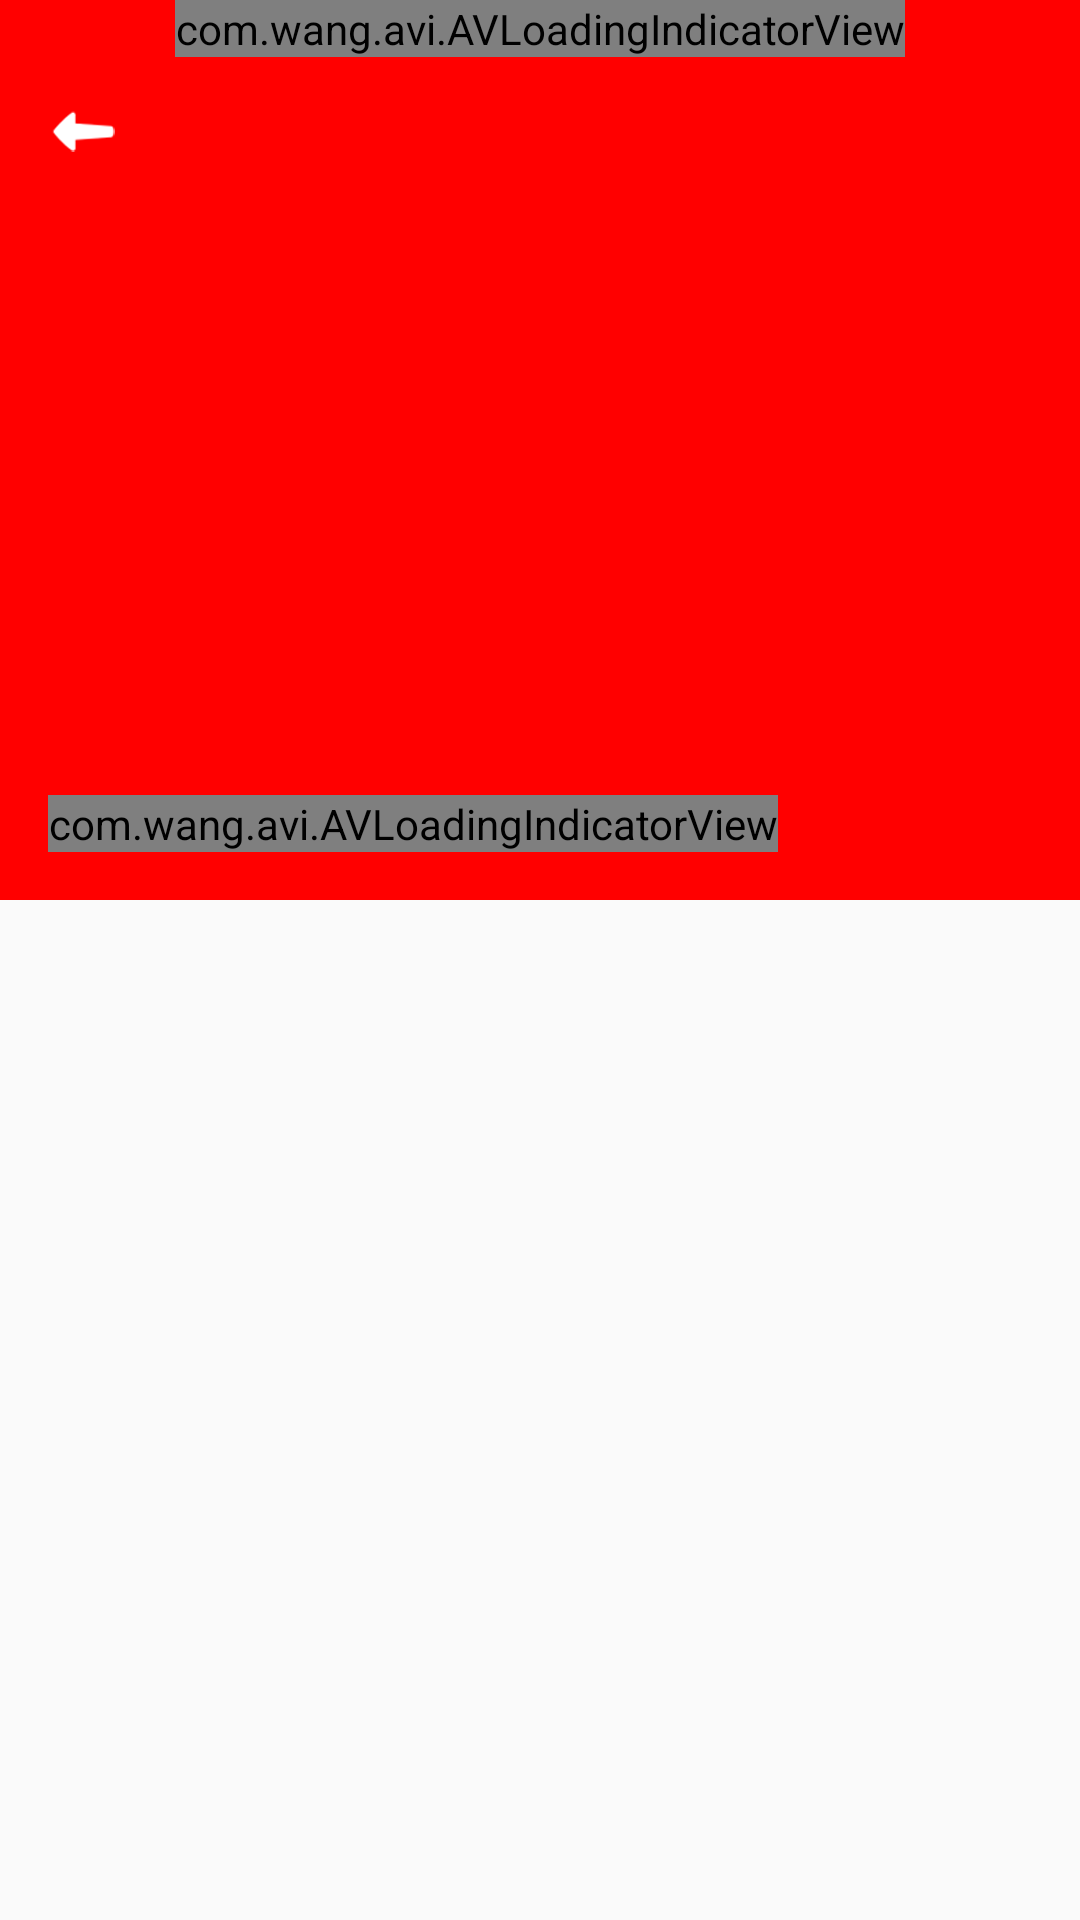

Where to tap for icons on this 1080 x 1920 app screen, as [x,y]:
arrow back: [84,131]
